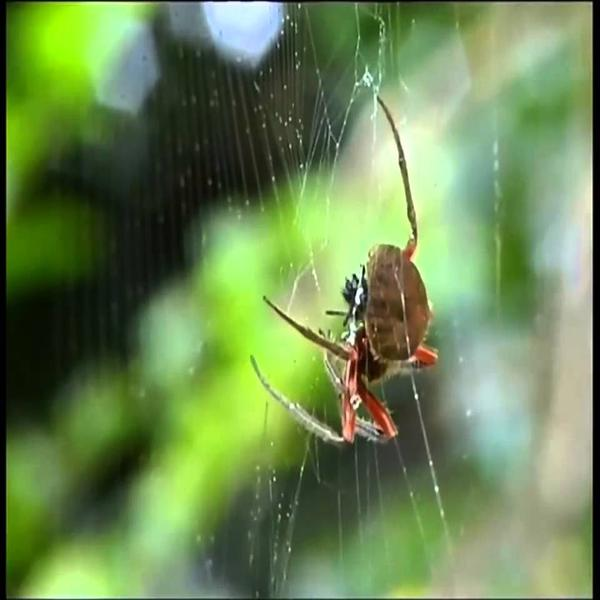Garden_Orb_Weaver_Spider: (250, 94, 440, 452)
